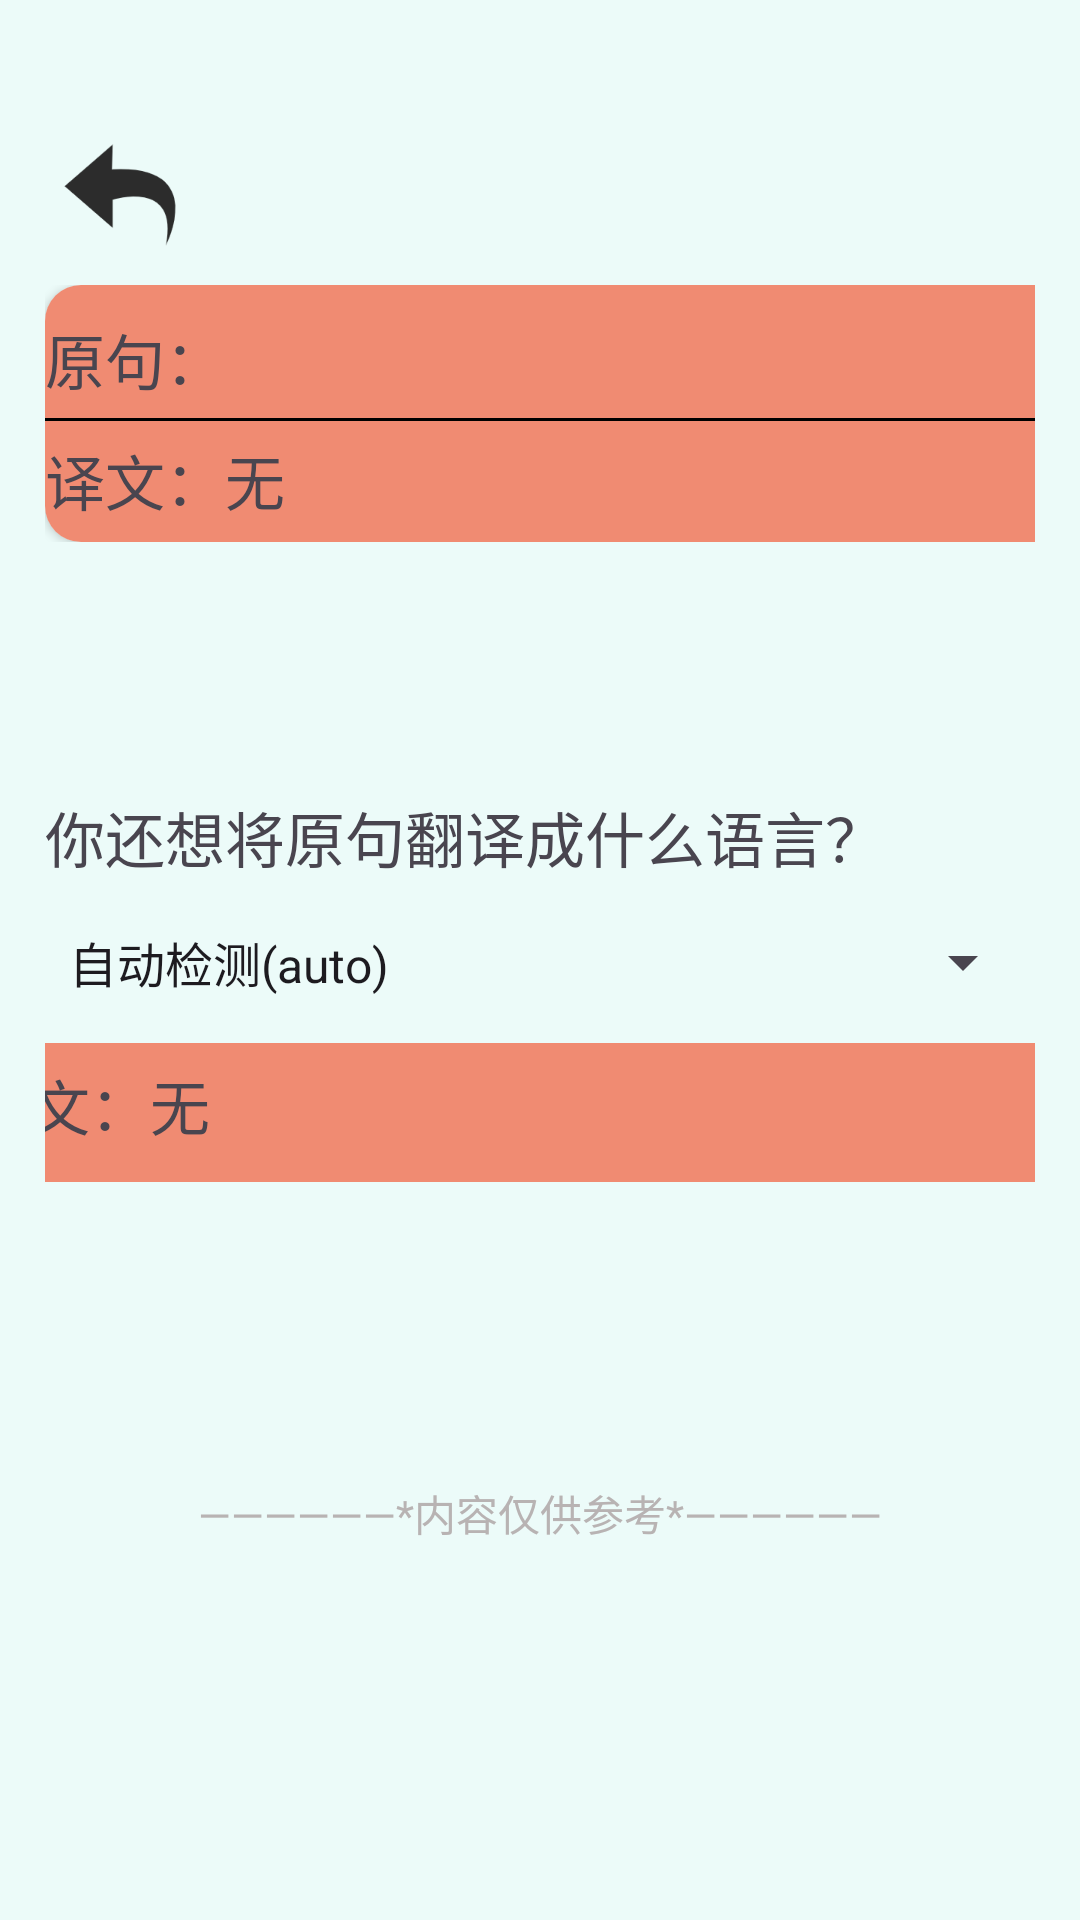

Icons on this 1080px x 1920px Android screen, each with the point to tap as point (x, y):
back: point (120, 194)
